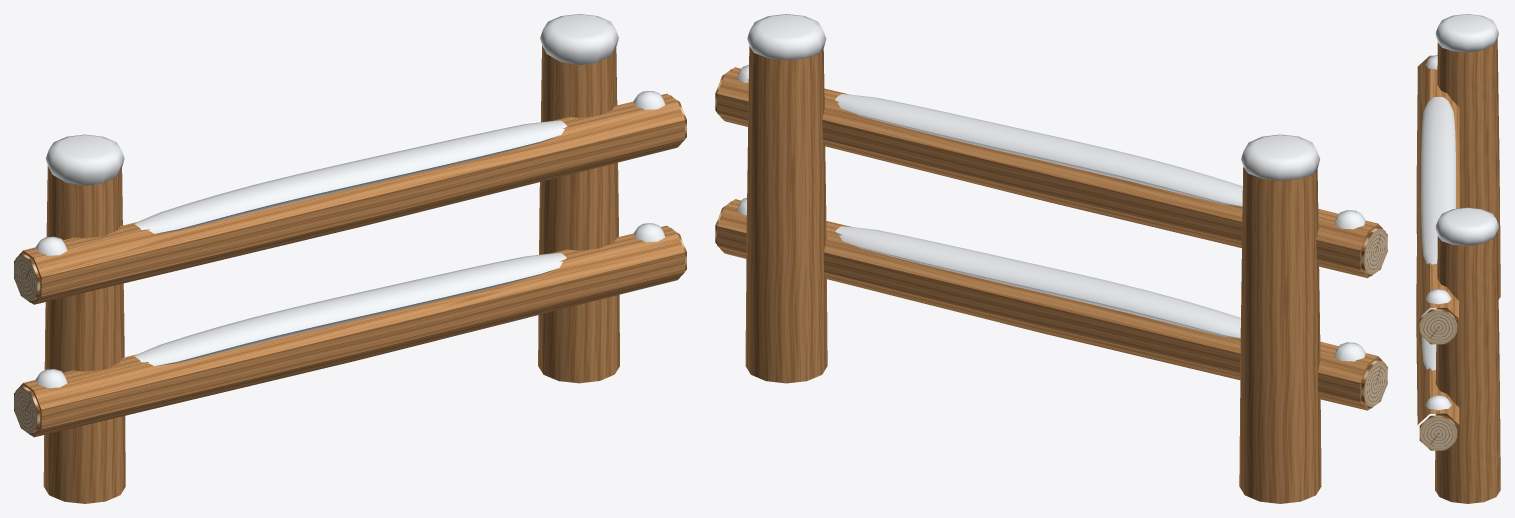
Rendered from SnowyLogFence.glb.
3 views of the same model, side by side, from view 1: azimuth 30°, elevation 25°; view 2: azimuth 150°, elevation 25°; view 3: azimuth 270°, elevation 25° (orthographic). The views are drawn at different scales.
Parts seen in each view (by area): view 1: SnowyLogFence; view 2: SnowyLogFence; view 3: SnowyLogFence.
Part boxes in pixels (x1,y1,x2,y2): SnowyLogFence: (14, 14, 686, 503); SnowyLogFence: (715, 14, 1387, 503); SnowyLogFence: (1416, 14, 1500, 503).
Size of the model in its own units: 11.3 by 5.67 by 1.59.
1 material, 1 textured.
